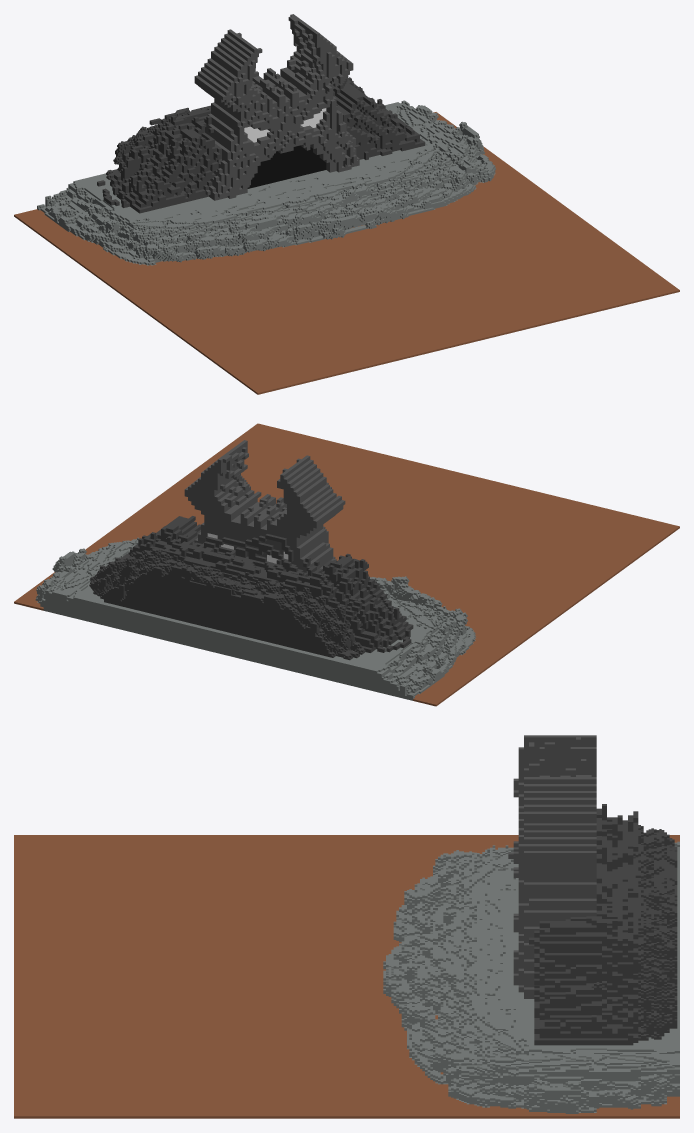
The model's file is background_onigashima.glb.
3 views of the same model, one above another, from view 1: azimuth 30°, elevation 25°; view 2: azimuth 150°, elevation 25°; view 3: azimuth 270°, elevation 25° (orthographic). The views are drawn at different scales.
Visible parts, largest first — view 1: Node; view 2: Node; view 3: Node.
Boxes of the visible parts, <box> form: Node: <box>14,14,679,394</box>; Node: <box>14,423,679,706</box>; Node: <box>14,735,679,1118</box>.
Bounding box in the file's own units: 25.6 × 9.5 × 25.6.
1 material, 1 textured.
